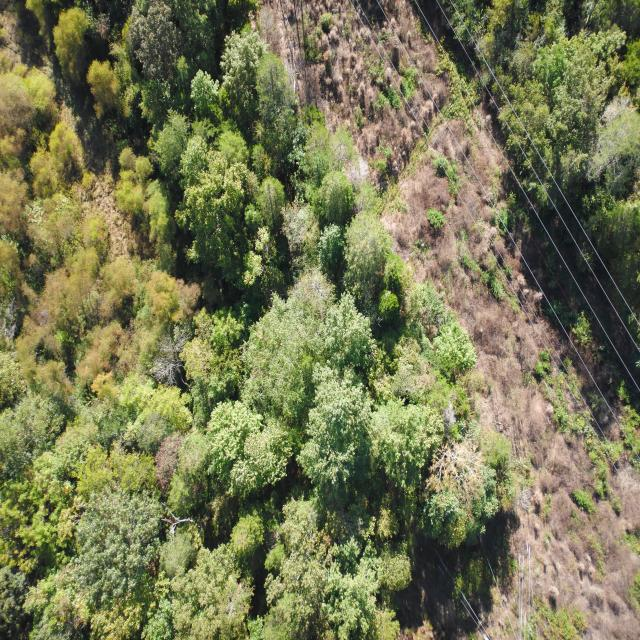Area of Interest: (12, 8, 519, 630), (462, 2, 638, 283)
